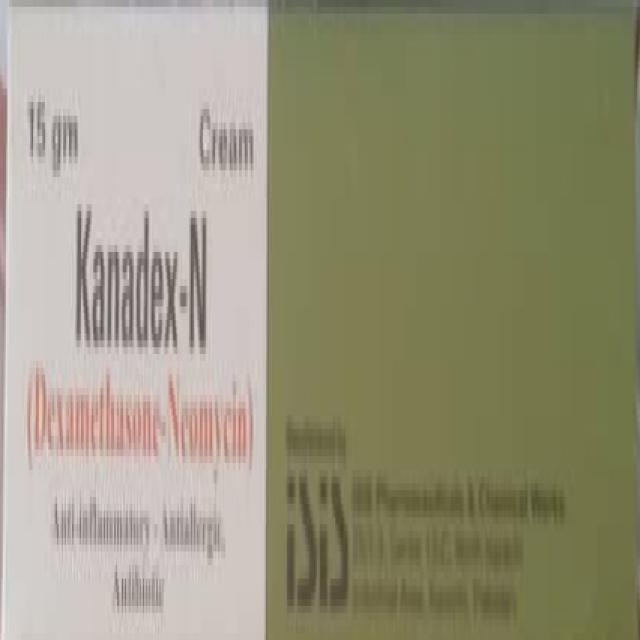drug-name: (75, 199, 236, 363)
